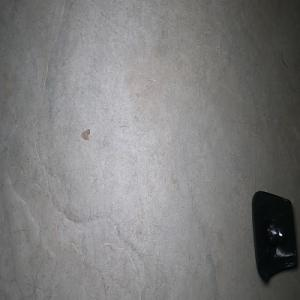LuggagePart: (250, 189, 298, 282)
